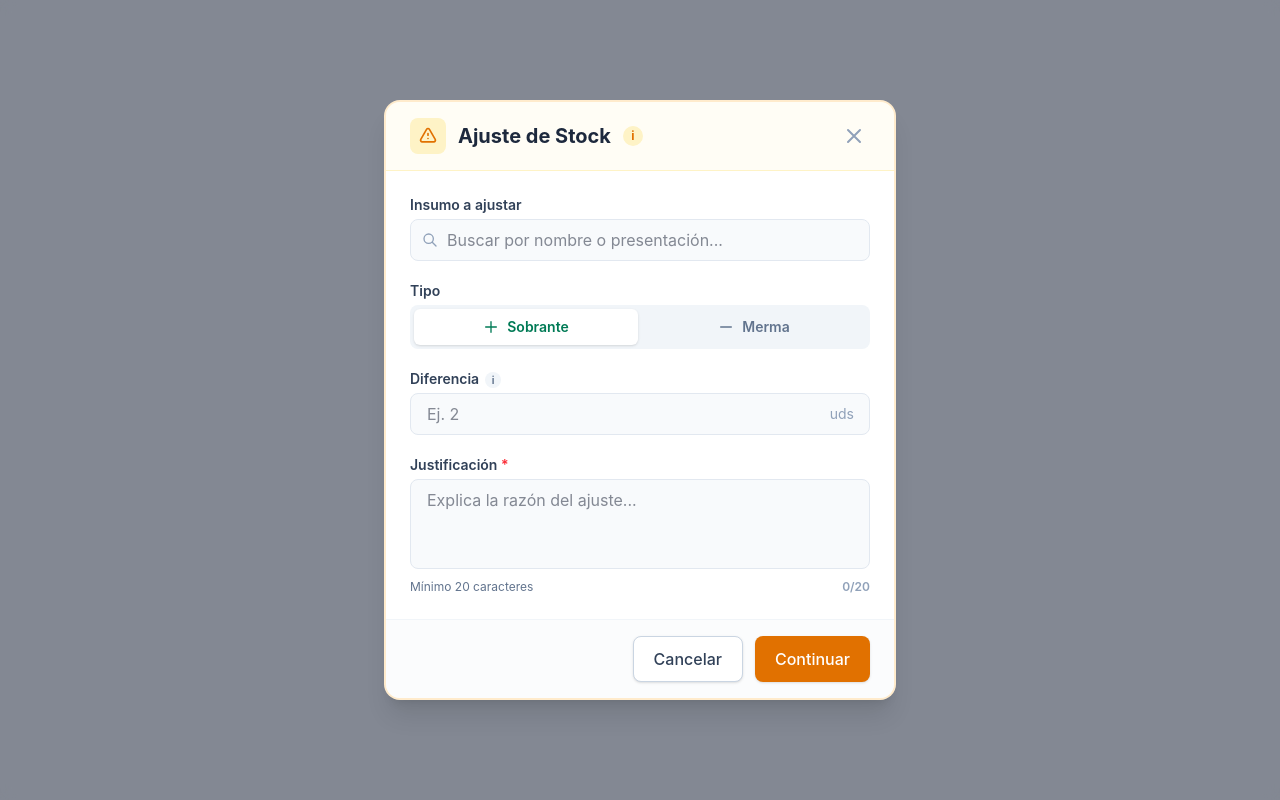
AjusteModal (sobrantes y mermas) › advierte cuando la merma supera el stock disponible
Type "jeringa" into the dropdown at {"x": 640, "y": 240}, box [410, 219, 870, 261]
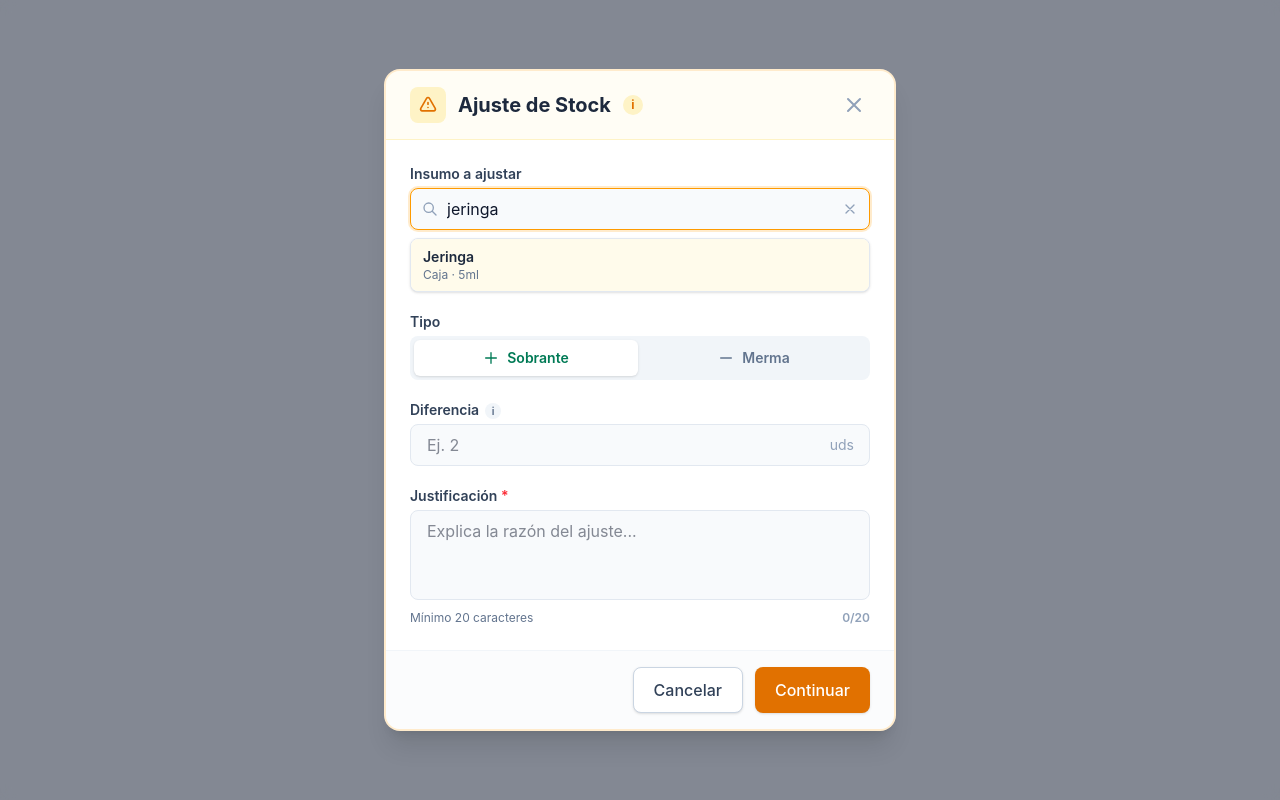
Click the option "Jeringa Caja · 5ml" at {"x": 449, "y": 256}, box [411, 239, 869, 291]
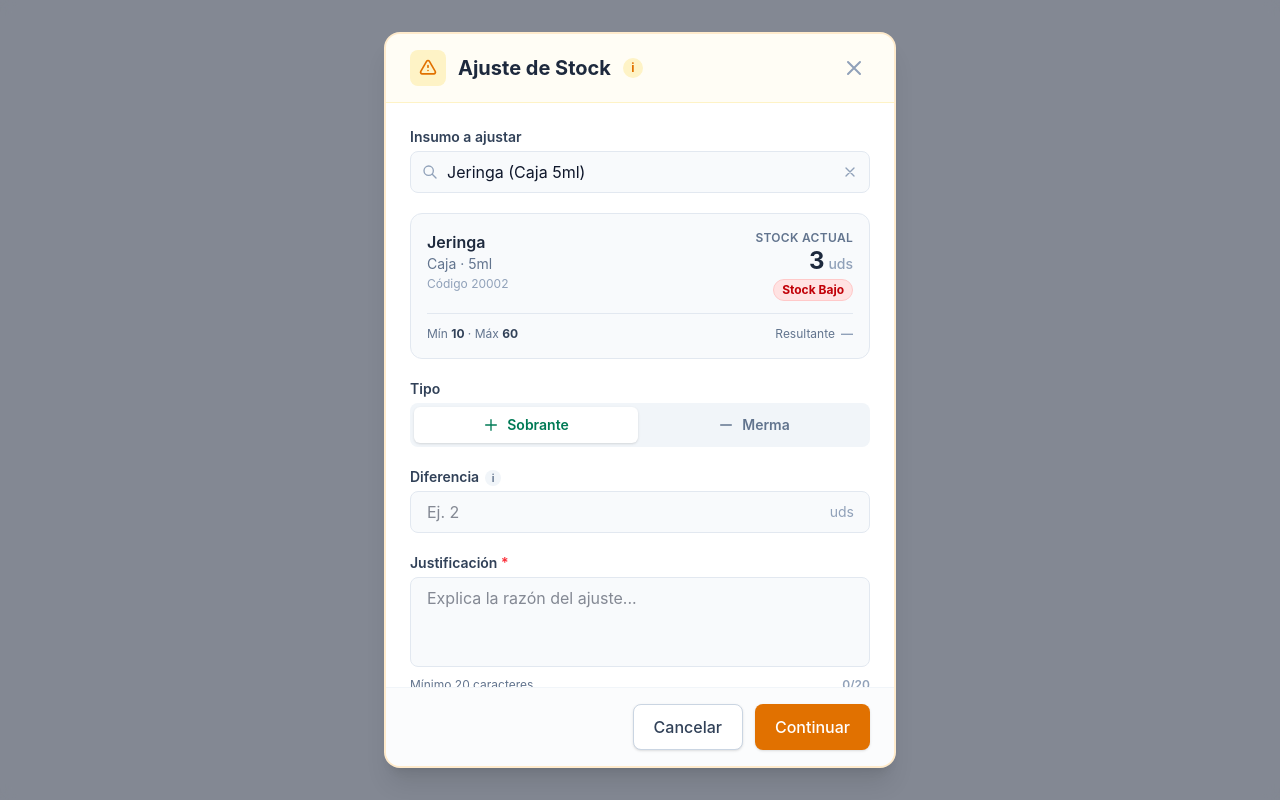
Click the button "Merma" at {"x": 754, "y": 425}, box [642, 407, 866, 443]
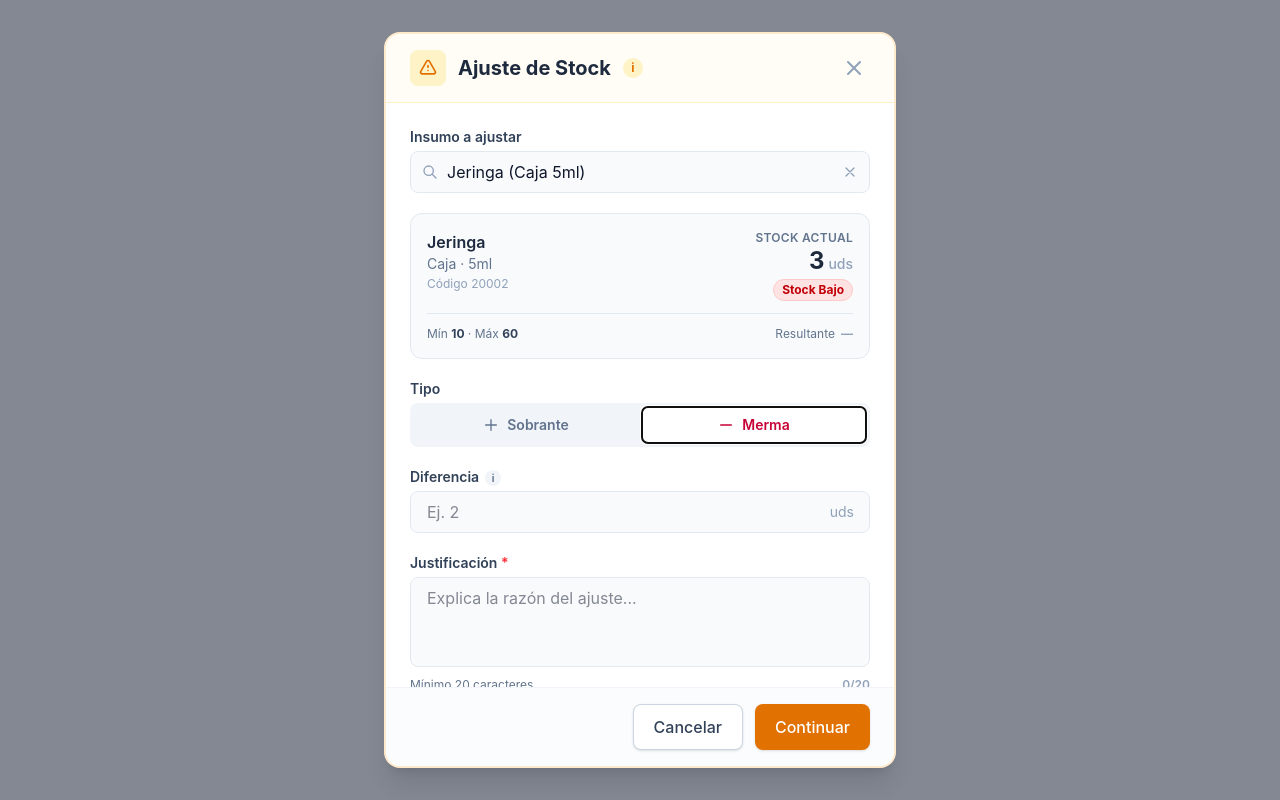
Type "4" into the number field at {"x": 640, "y": 512}, box [410, 491, 870, 533]
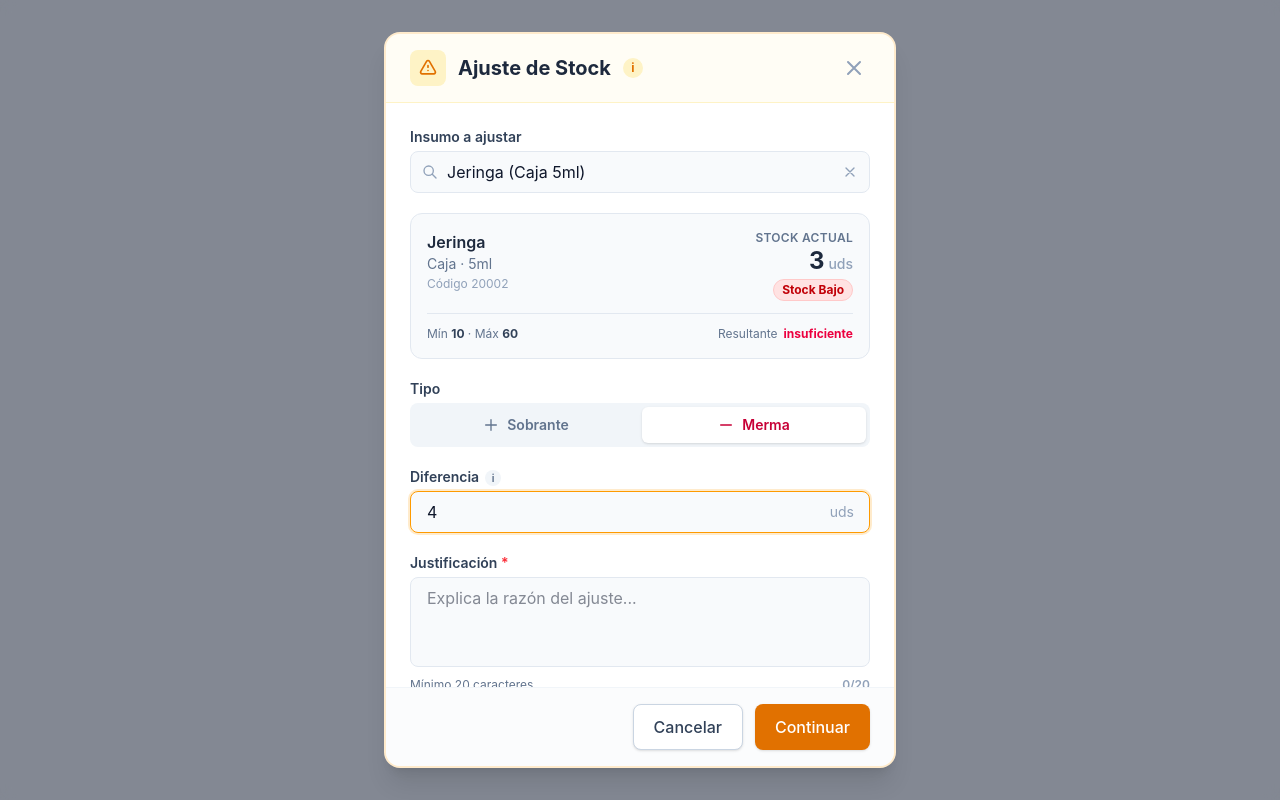
Result: the text "insuficiente" is shown at [784, 326, 853, 342]
